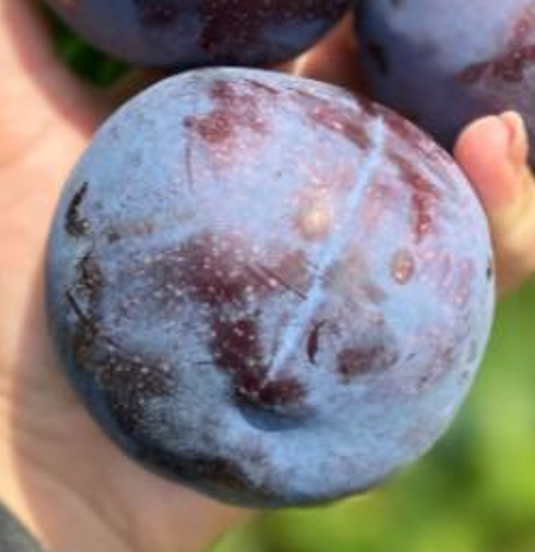plum_A: (46, 65, 496, 509)
